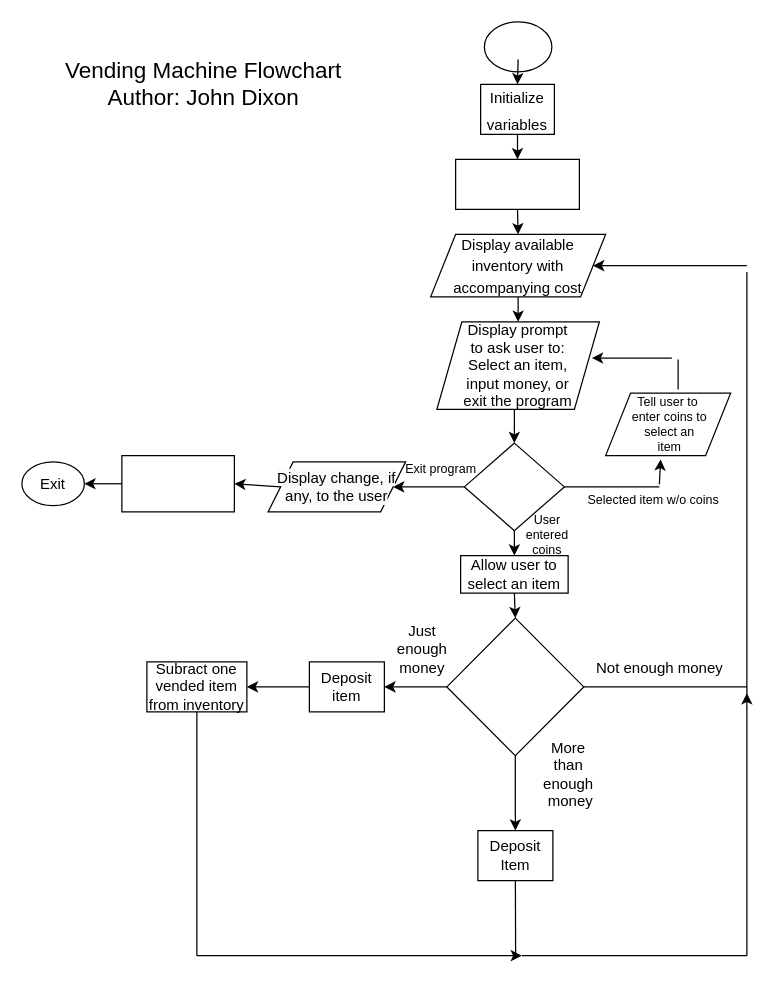
The diagram is 779 pixels wide and 988 high, and some of its shapes have lost their labels. The shapes that lost their labels are listed below. From the top down, each one's centre as x and y in pixels, then its label:
At (517,46): "Start Program".
At (516,183): "Read vending inventory from file".
At (177,483): "Return any unused coins to the user".
At (513,486): "Exit or money input?".
At (515,686): "User selects choice with given funds".
